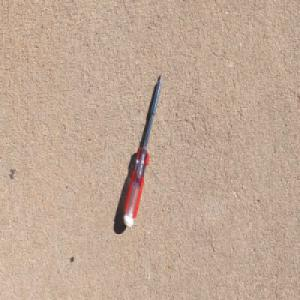Screwdriver: (122, 70, 164, 229)
